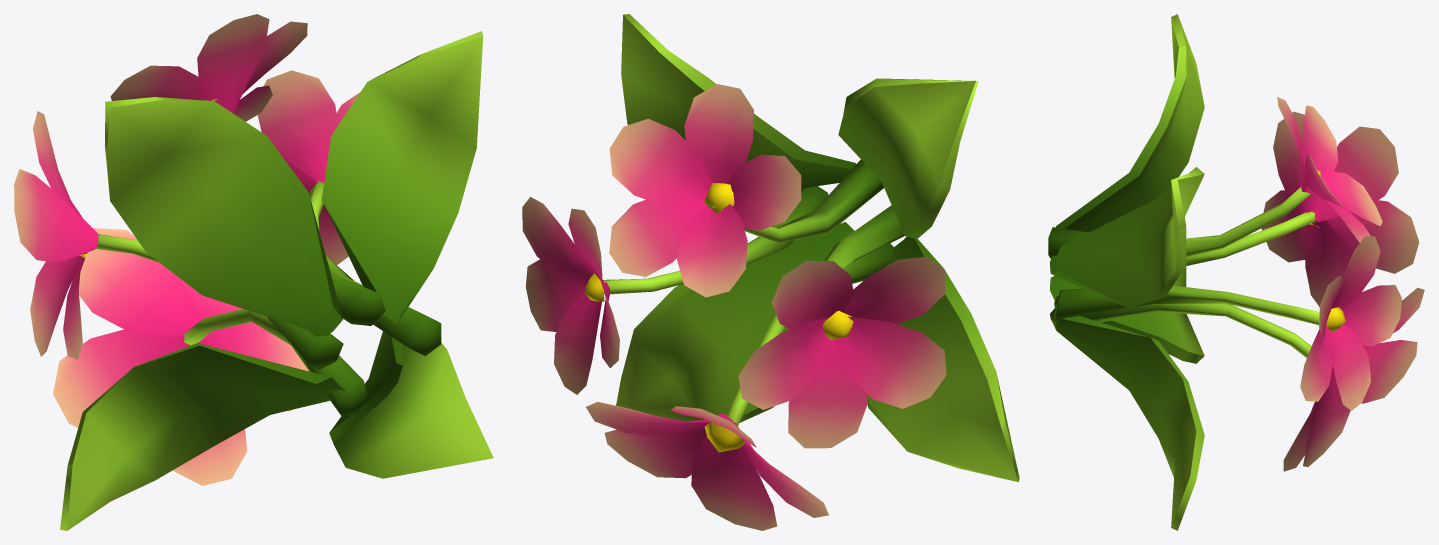
Rendered from pinkFlwrs.fbx.
3 views of the same model, side by side, from view 1: azimuth 30°, elevation 25°; view 2: azimuth 150°, elevation 25°; view 3: azimuth 270°, elevation 25° (orthographic). The views are drawn at different scales.
Parts seen in each view (by area): view 1: FLOWERS1; view 2: FLOWERS1; view 3: FLOWERS1.
Part boxes in pixels (x1,y1,x2,y2): FLOWERS1: (14, 14, 493, 530); FLOWERS1: (522, 14, 1019, 530); FLOWERS1: (1048, 14, 1424, 530).
Size of the model in its own units: 430 by 431 by 385.
